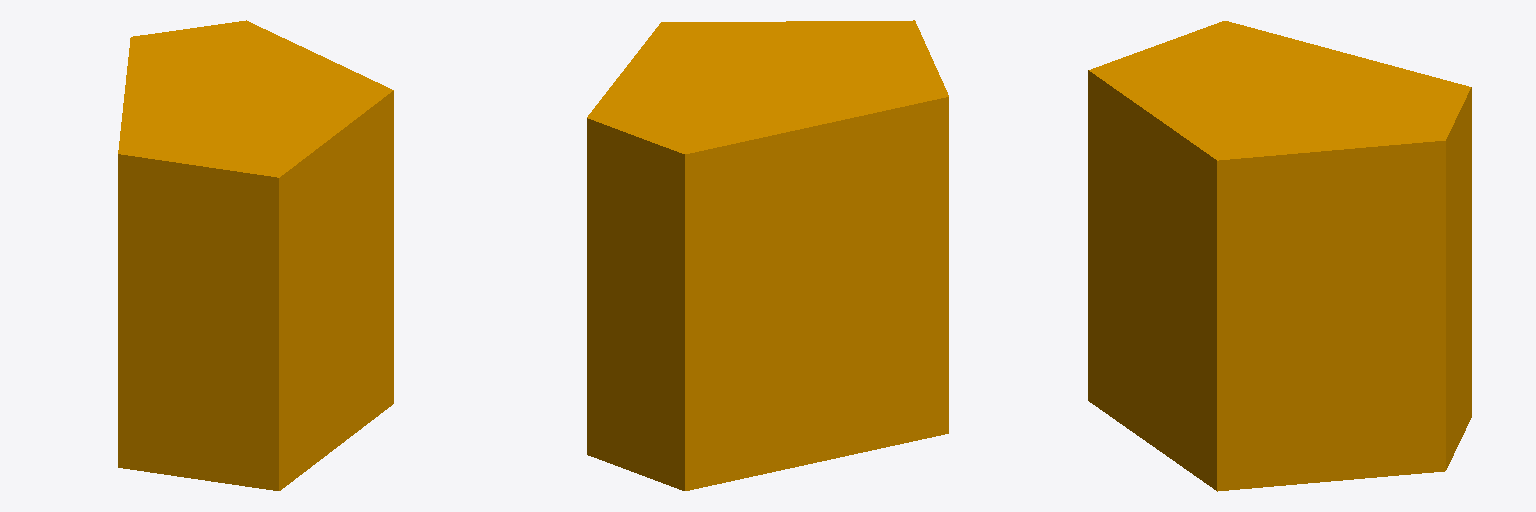
URDF robot description (object):
<?xml version="1.0"?>
<robot name="object">
  <link name="object">
    <visual>
      <origin xyz="0 0 0"/>
      <geometry>
        <mesh filename="meshes/generated/col_101.obj" scale="0.03 0.03 0.03"/>
      </geometry>
    </visual>
    <collision>
      <origin xyz="0 0 0"/>
      <geometry>
        <mesh filename="meshes/generated/col_101.obj" scale="0.03 0.03 0.03"/>
      </geometry>
    </collision>
    <inertial>
      <density value="1000.0"/>
    </inertial>
  </link>
</robot>

--- What the picture shows (computed from the rendered views, not written in the file) ---
3 views of the same robot in one strip: view 1: azimuth 30°, elevation 25°; view 2: azimuth 150°, elevation 25°; view 3: azimuth 270°, elevation 25° (orthographic).
Robot: object — 1 links, 0 joints (none); root link object; default pose: every joint at zero.
Links seen in each view (by area): view 1: object; view 2: object; view 3: object.
Boxes of the visible links, x1=… form: object: x1=118, y1=20, x2=393, y2=490; object: x1=587, y1=20, x2=948, y2=490; object: x1=1088, y1=21, x2=1471, y2=491.
Bounding box of the posed robot: 0.0545 × 0.0629 × 0.06 m (x, y, z).
Meshes: 1 distinct files referenced, 1 mesh visuals loaded (1 OBJ).
